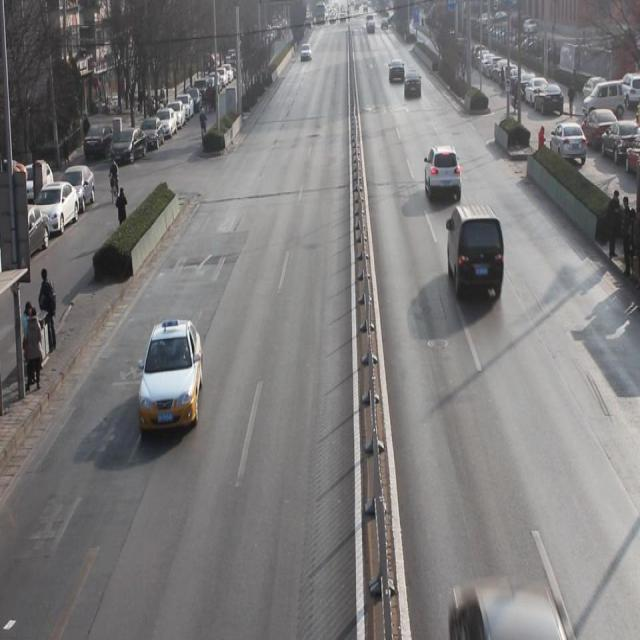car: (140, 320, 202, 436), (423, 145, 463, 205), (404, 69, 424, 99), (388, 58, 406, 84)
truck: (445, 204, 506, 304)
